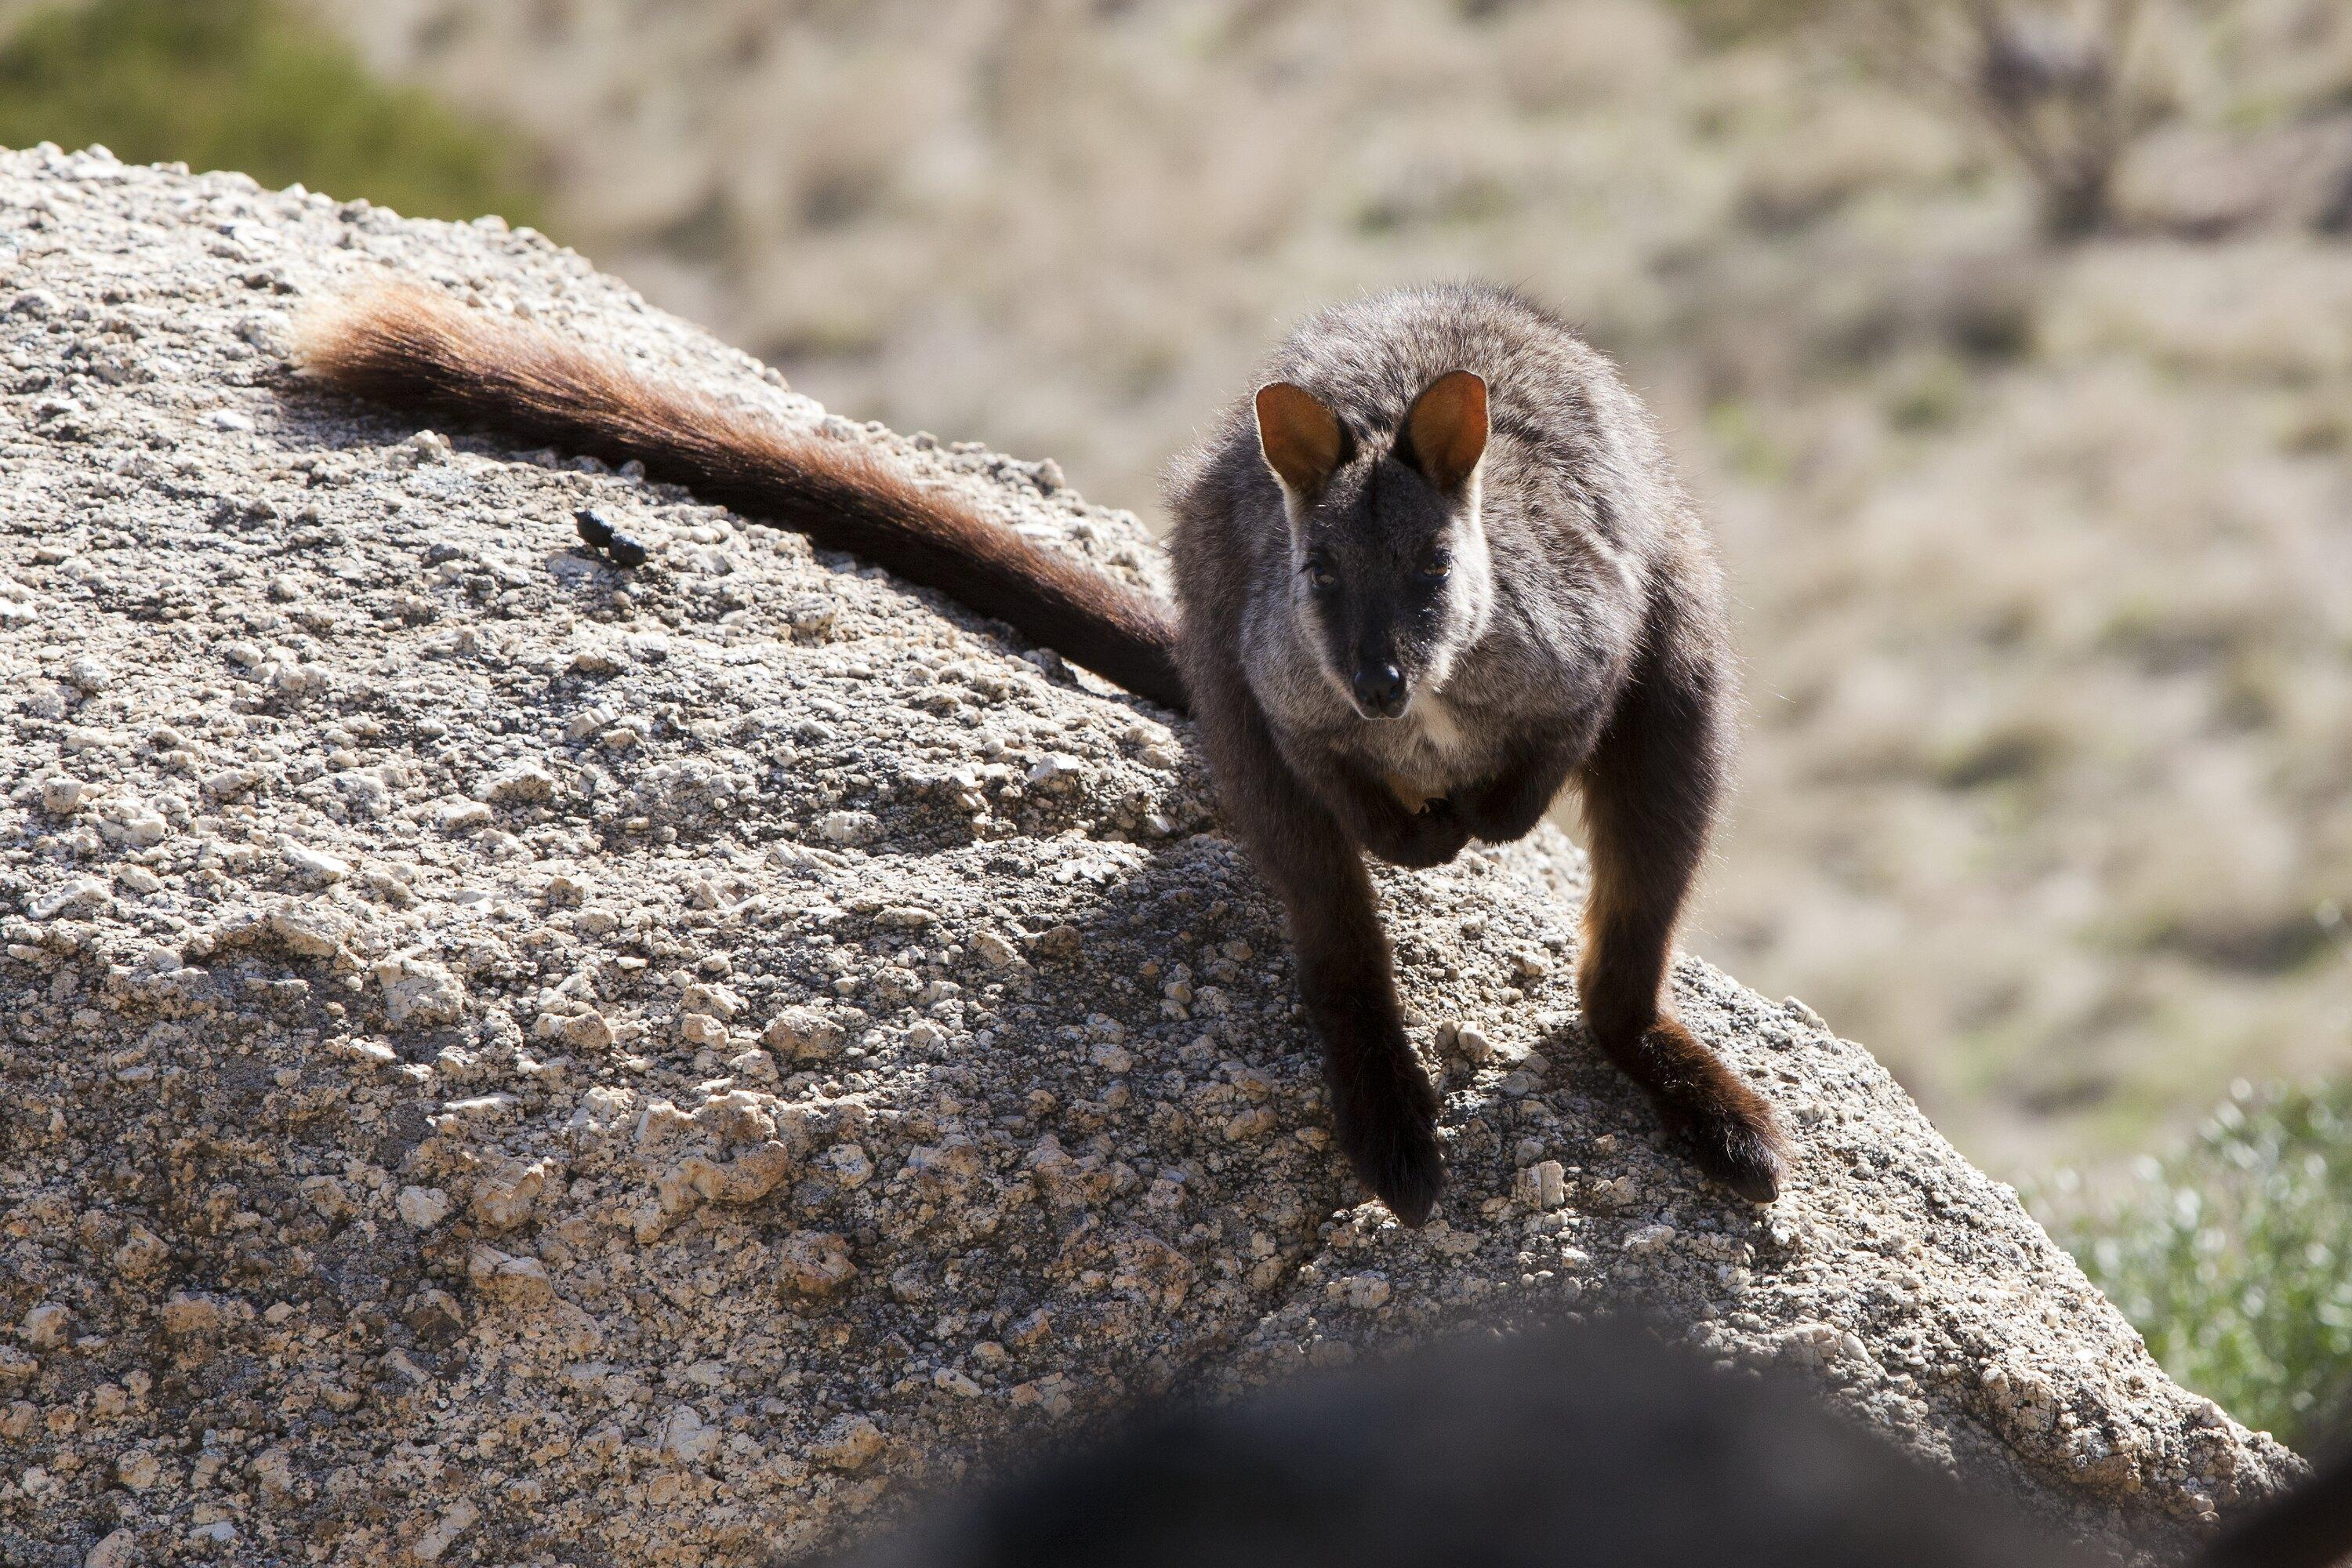Brush-tailed rock-wallaby: (259, 269, 1796, 1235)
